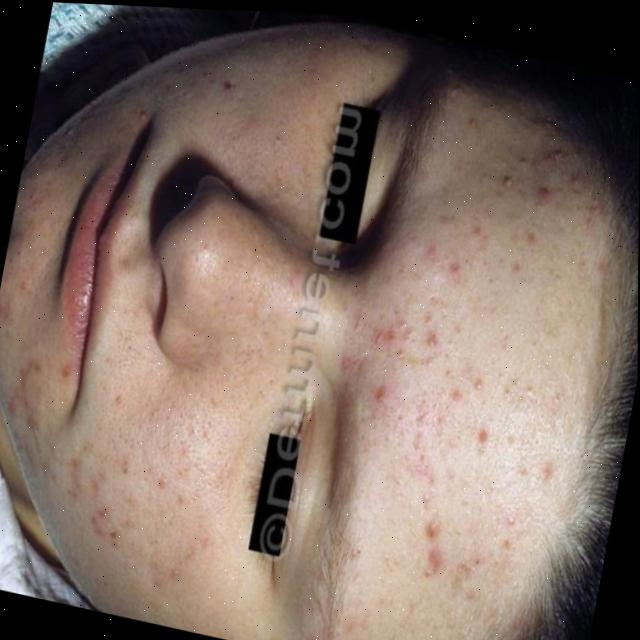Rosacea: (309, 104, 613, 623), (0, 346, 234, 603)
